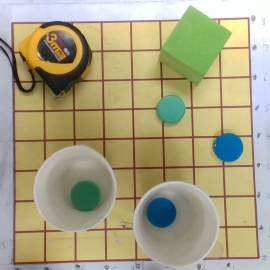blue: (213, 132, 244, 162)
cup_blue: (132, 175, 220, 267)
cup_green: (33, 145, 118, 233)
green: (156, 94, 185, 124)
